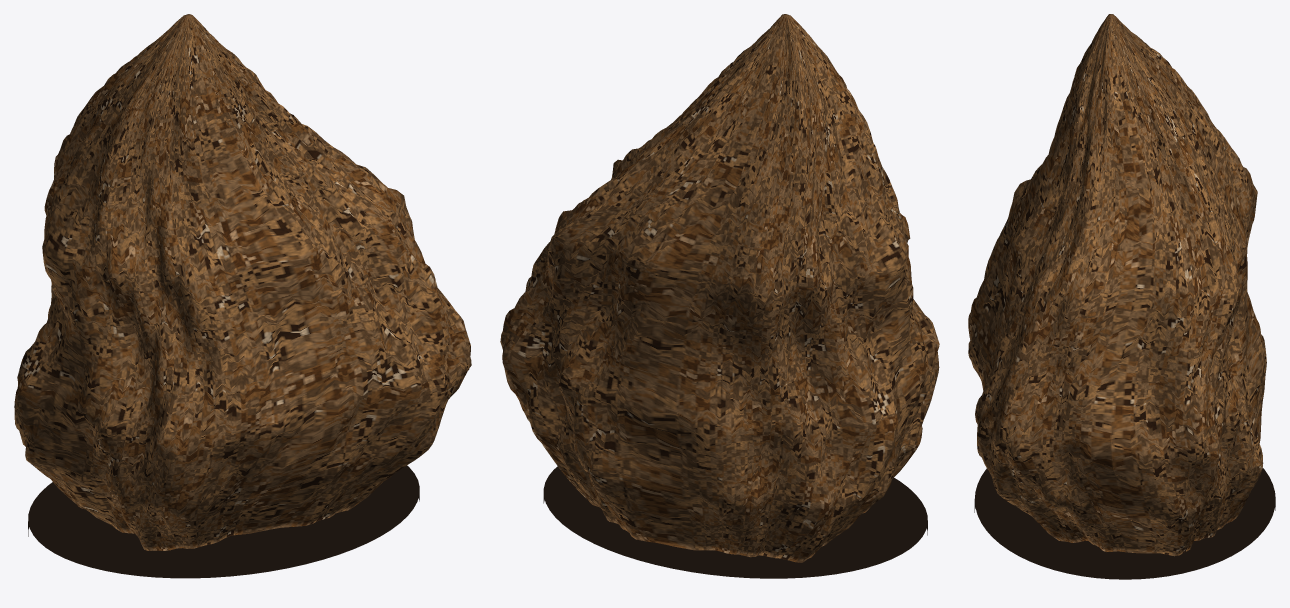
File: lingstone-concept-06-v19.glb
3 views of the same model, side by side, from view 1: azimuth 30°, elevation 25°; view 2: azimuth 150°, elevation 25°; view 3: azimuth 270°, elevation 25° (orthographic). The views are drawn at different scales.
Visible parts, largest first — view 1: XY-CONCEPT-006 concept stone, Concept display plinth; view 2: XY-CONCEPT-006 concept stone, Concept display plinth; view 3: XY-CONCEPT-006 concept stone, Concept display plinth.
Boxes of the visible parts, box(x1,y1,x2,y2) form: XY-CONCEPT-006 concept stone: box(14, 14, 471, 550); Concept display plinth: box(28, 465, 419, 578); XY-CONCEPT-006 concept stone: box(500, 14, 939, 562); Concept display plinth: box(543, 466, 927, 578); XY-CONCEPT-006 concept stone: box(968, 14, 1266, 556); Concept display plinth: box(974, 468, 1275, 579).
Size of the model in its own units: 1.29 by 1.67 by 0.9721.
Materials: 2 (1 with a texture image).
